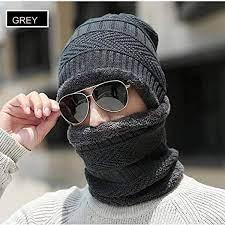cap: (49, 8, 174, 106)
scarf-kerchief: (64, 99, 191, 188)
sunglasses: (54, 76, 135, 125)
